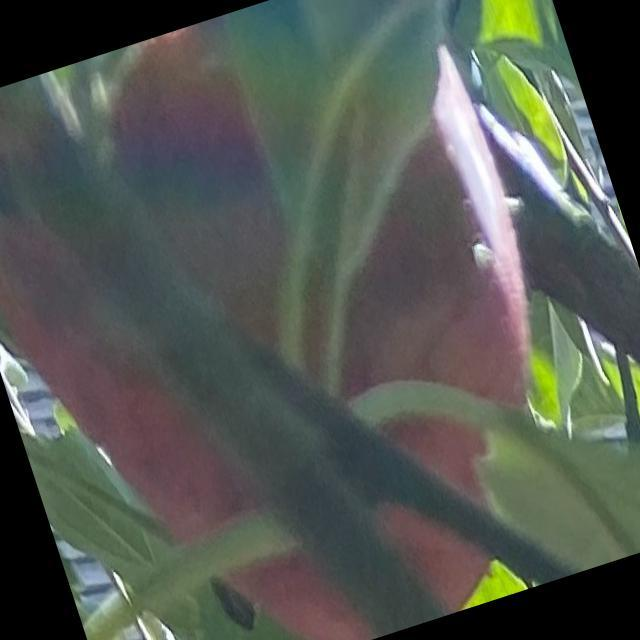100-_ripeness: (0, 0, 626, 639)
